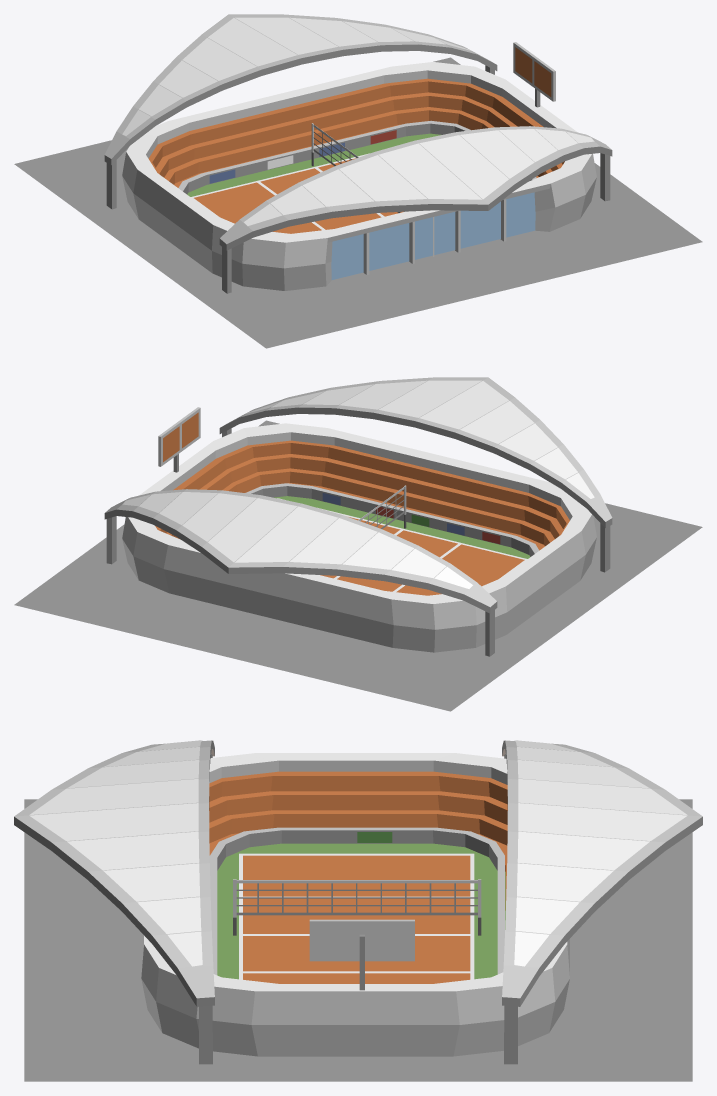
The model's file is stadium_003.fbx.
3 renders of one model, top to bottom at view 1: azimuth 30°, elevation 25°; view 2: azimuth 150°, elevation 25°; view 3: azimuth 270°, elevation 25°, orthographic. The views are drawn at different scales.
Visible parts, largest first — view 1: stadium_003; view 2: stadium_003; view 3: stadium_003.
Part boxes in pixels (x1=…): stadium_003: x1=14, y1=14, x2=702, y2=348; stadium_003: x1=14, y1=377, x2=702, y2=711; stadium_003: x1=14, y1=740, x2=702, y2=1081.
Size of the model in its own units: 1600 by 380 by 1649.
